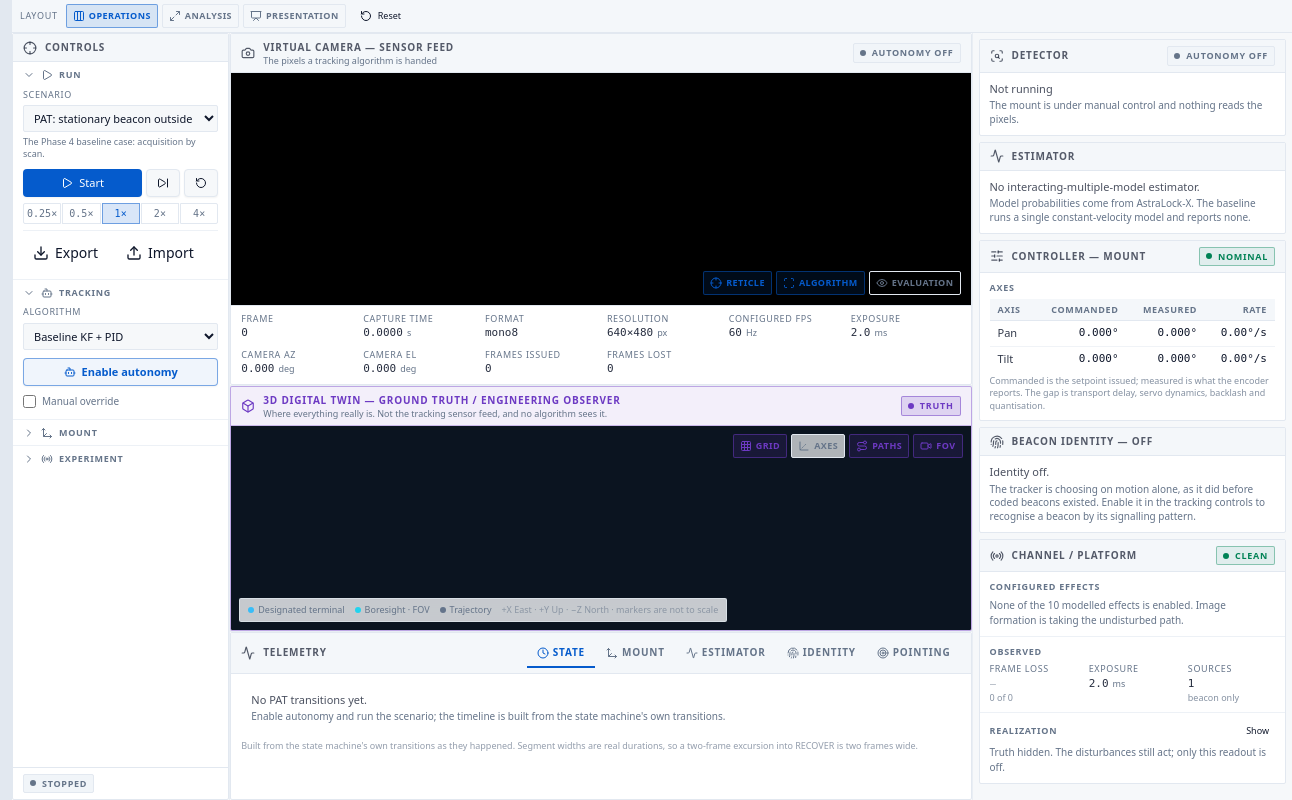
Scenario: before a recording starts › shows no run and no counters, and asks for recording before autonomy
The image size is (1292, 800).
Click the button "Experiment" at x=121, y=459, box left=13, top=446, right=228, bottom=472
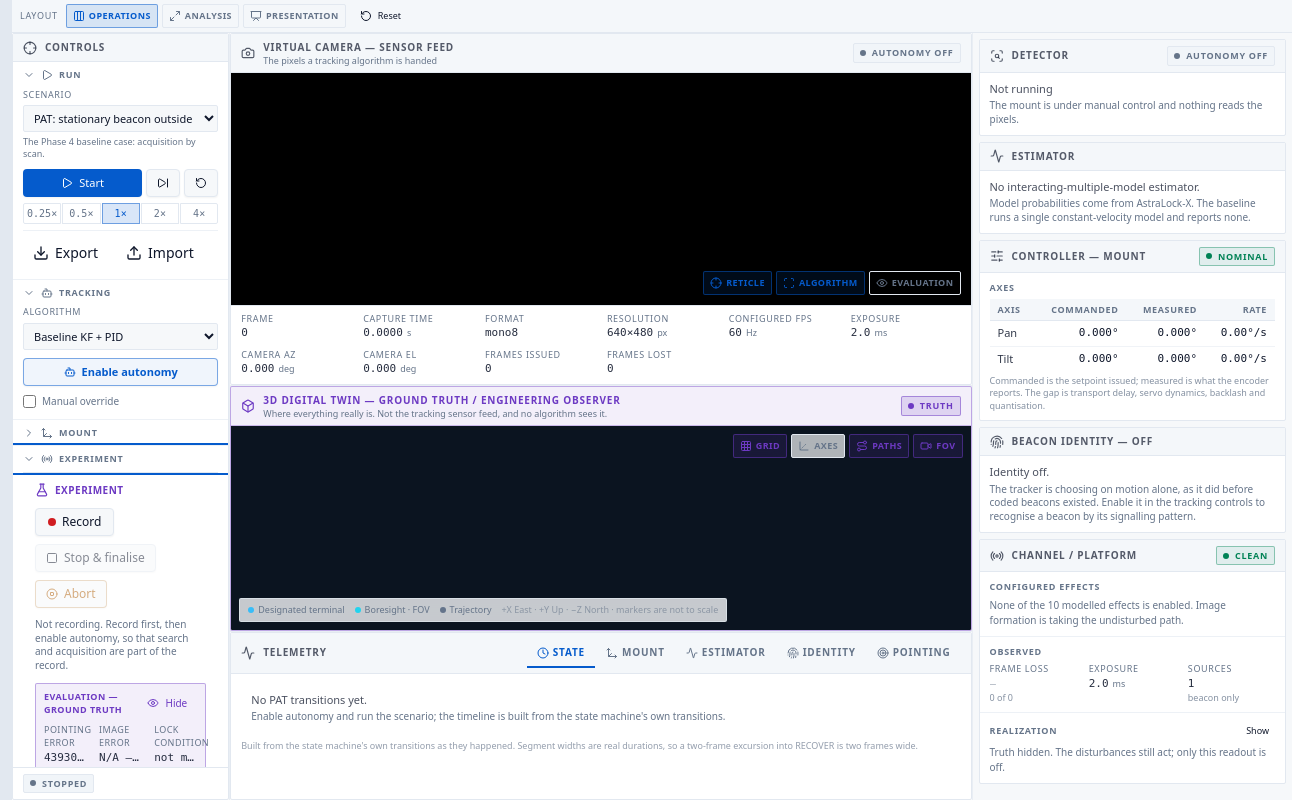
Expected: the text "Not recording" is shown, left=35, top=617, right=188, bottom=672
Expected: the button with aria-label "Stop and finalise experiment" is disabled, left=35, top=544, right=156, bottom=572
Expected: the button with aria-label "Abort experiment" is disabled, left=35, top=580, right=107, bottom=608
